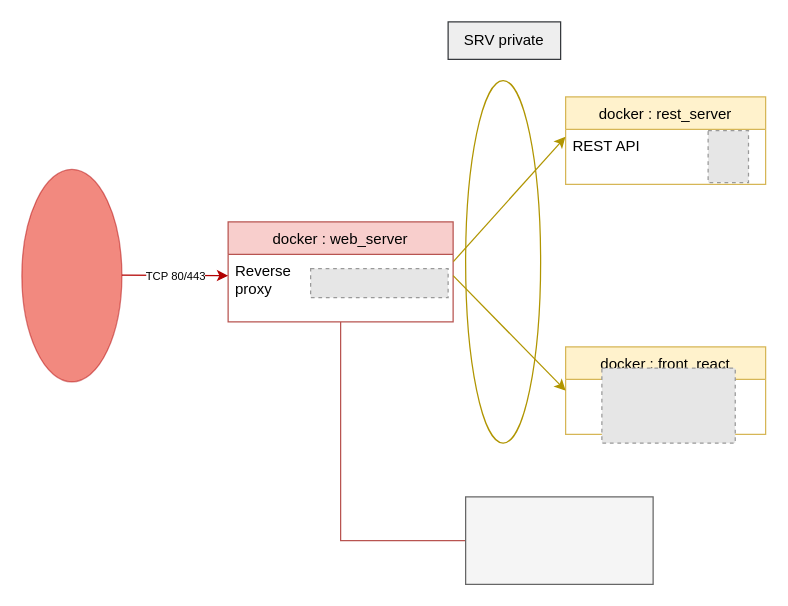
The diagram is 788 pixels wide and 606 high, and some of its shapes have lost their labels. Grey dashed boxes stand in for pictures. Here are the shapes that lost their labels. From the top down, the centre of each, then its label:
[71,275]: Outside World
[558,540]: Routes: /api -> rest_server reste -> front_react
